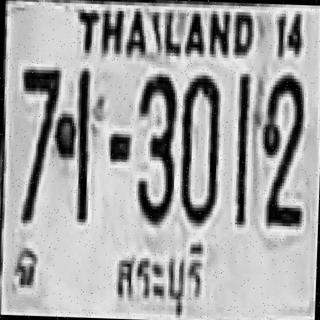N00: (178, 72, 220, 224)
N01: (233, 72, 250, 223), (234, 72, 249, 204)
N02: (258, 79, 305, 225)
N03: (133, 70, 176, 222)
N07: (17, 66, 59, 218), (18, 64, 59, 170), (19, 66, 59, 160)
P60: (108, 234, 211, 320)
